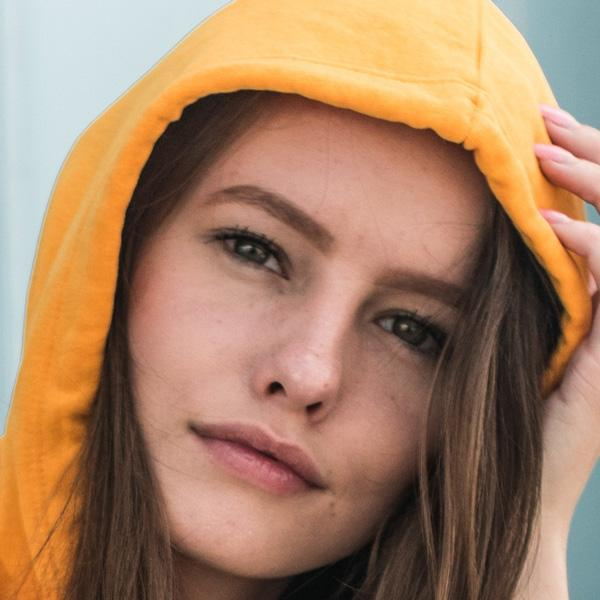Eyes: (360, 292, 452, 369), (197, 216, 295, 288)
